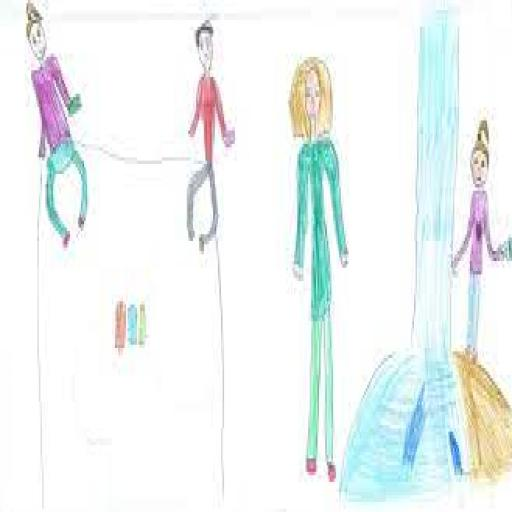person: (285, 52, 350, 490), (21, 0, 89, 262), (177, 16, 239, 260), (449, 115, 512, 354)
